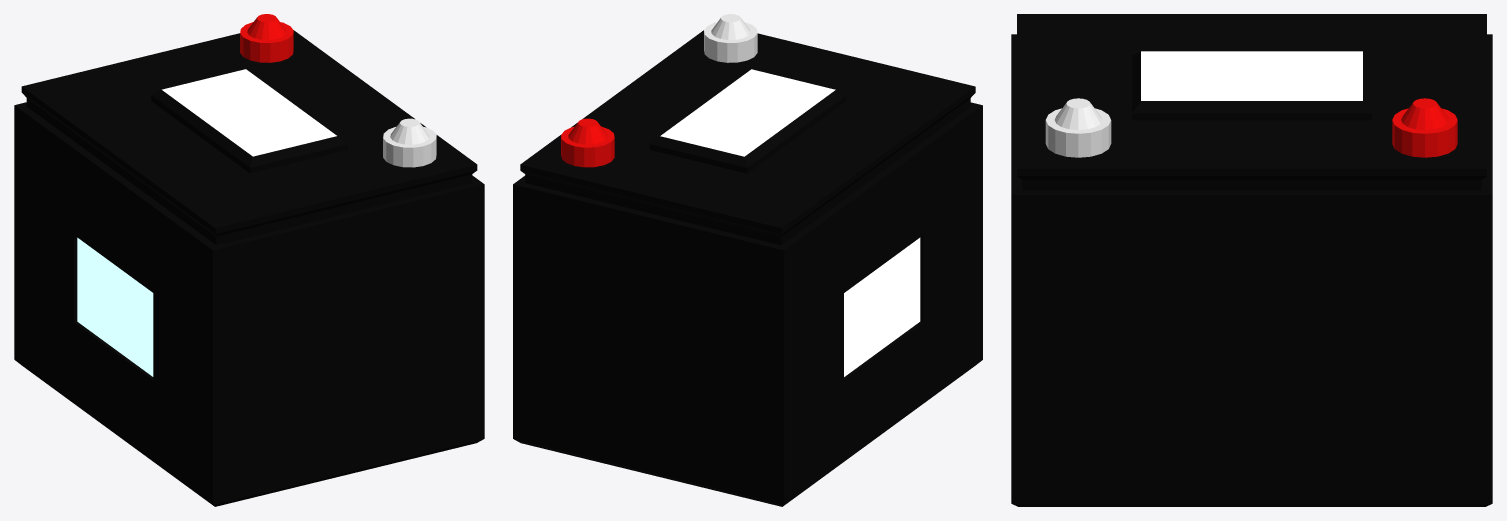
File: Car Battery.fbx
The picture shows the model from 3 angles, left to right: view 1: azimuth 30°, elevation 25°; view 2: azimuth 150°, elevation 25°; view 3: azimuth 270°, elevation 25°; orthographic projection. The views are drawn at different scales.
Visible parts, largest first — view 1: CarBattery; view 2: CarBattery; view 3: CarBattery.
Boxes of the visible parts, bbox=[...] form: CarBattery: bbox=[14, 14, 484, 506]; CarBattery: bbox=[513, 14, 982, 506]; CarBattery: bbox=[1011, 14, 1492, 506].
Bounding box in the file's own units: 19 × 20.89 × 24.06.
